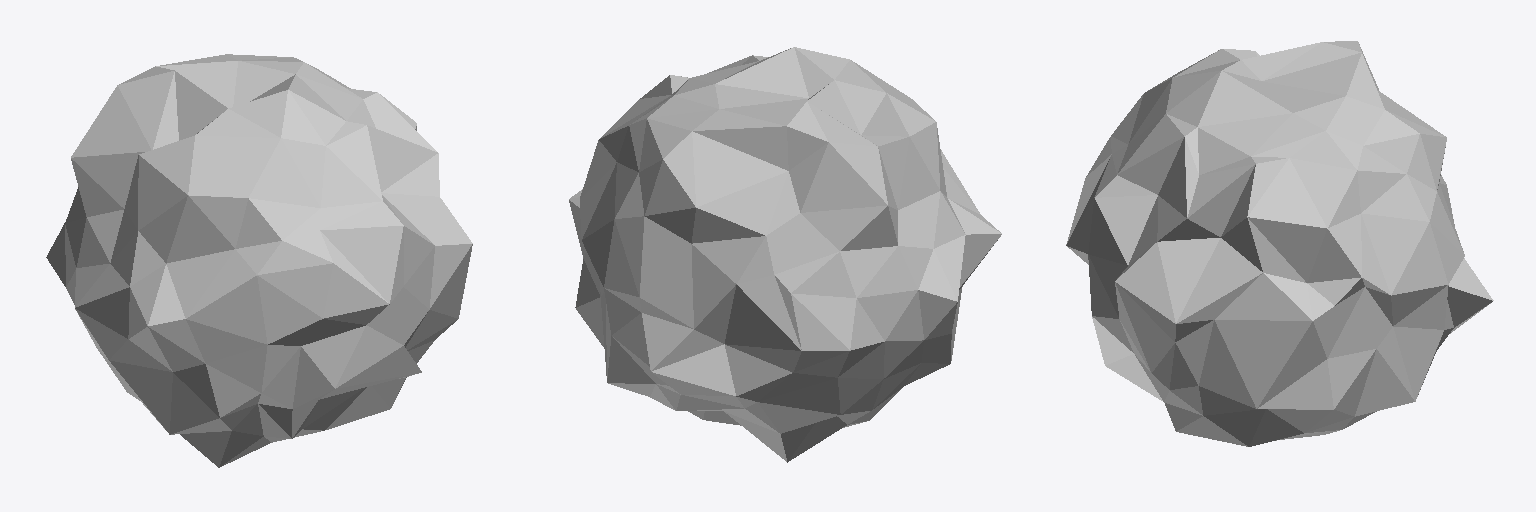
File: fire_000032.obj
3 views of the same model, side by side, from view 1: azimuth 30°, elevation 25°; view 2: azimuth 150°, elevation 25°; view 3: azimuth 270°, elevation 25° (orthographic).
Parts seen in each view (by area): view 1: Icosphere; view 2: Icosphere; view 3: Icosphere.
Boxes of the visible parts, <box> form: Icosphere: <box>46,54,472,467</box>; Icosphere: <box>569,47,1001,462</box>; Icosphere: <box>1066,41,1493,446</box>.
Bounding box in the file's own units: 1.2 × 1.16 × 1.2.